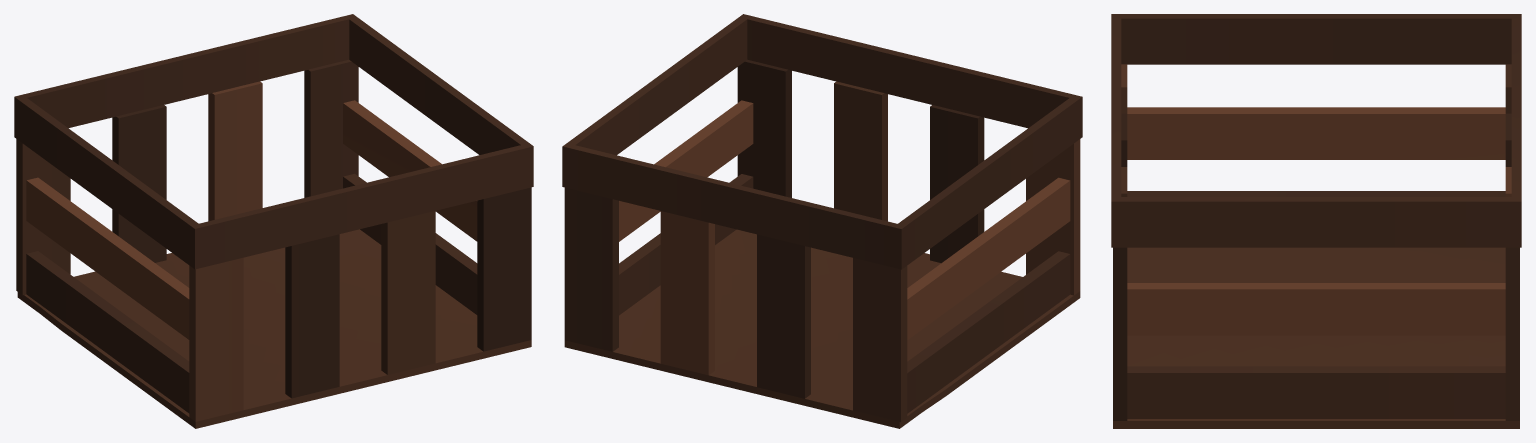
The model's file is Med Dark Crate No Lid.fbx.
The picture shows the model from 3 angles, left to right: view 1: azimuth 30°, elevation 25°; view 2: azimuth 150°, elevation 25°; view 3: azimuth 270°, elevation 25°; orthographic projection. The views are drawn at different scales.
Parts seen in each view (by area): view 1: Med Dark Crate No Lid; view 2: Med Dark Crate No Lid; view 3: Med Dark Crate No Lid.
Part boxes in pixels (box(x1,y1,x2,y2)): Med Dark Crate No Lid: box(14, 14, 533, 428); Med Dark Crate No Lid: box(562, 14, 1082, 428); Med Dark Crate No Lid: box(1111, 14, 1521, 428).
Size of the model in its own units: 118 by 192 by 208.
1 material, 1 textured.
